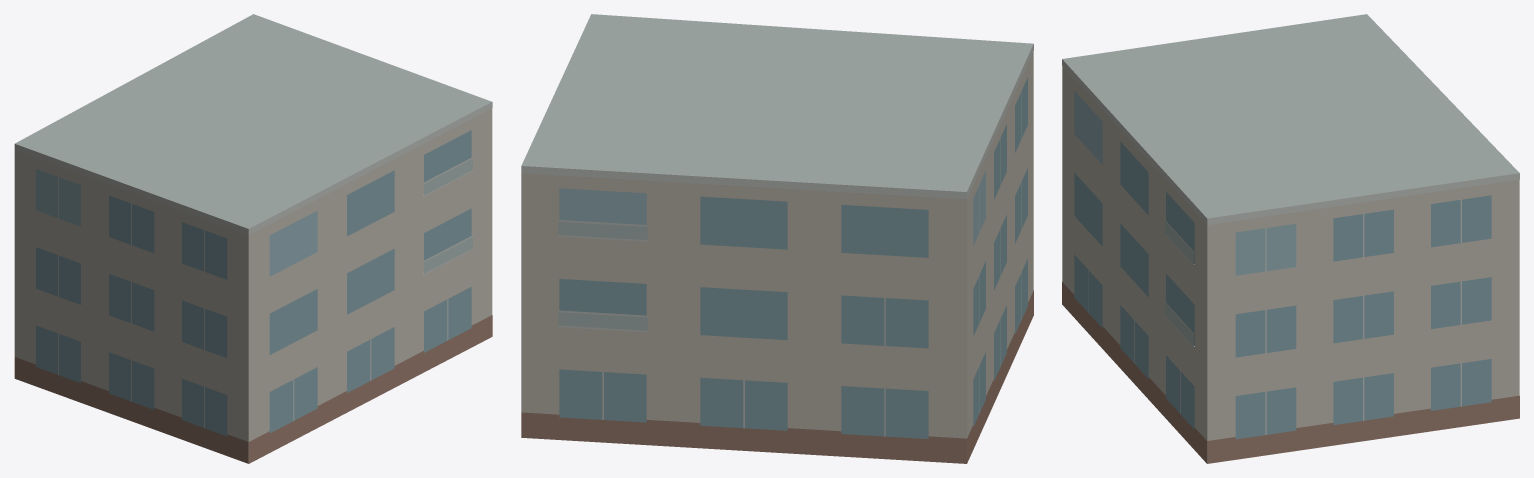
Rendered from survey-upis-32931818.glb.
The picture shows the model from 3 angles, left to right: view 1: azimuth 30°, elevation 25°; view 2: azimuth 150°, elevation 25°; view 3: azimuth 270°, elevation 25°; orthographic projection. The views are drawn at different scales.
Visible parts, largest first — view 1: survey-upis-32931818.tmp; view 2: survey-upis-32931818.tmp; view 3: survey-upis-32931818.tmp.
Boxes of the visible parts, left/top/right/bottom form: survey-upis-32931818.tmp: left=14, top=14, right=492, bottom=463; survey-upis-32931818.tmp: left=521, top=14, right=1033, bottom=463; survey-upis-32931818.tmp: left=1062, top=14, right=1519, bottom=463.
Bounding box in the file's own units: 16.37 × 9.15 × 15.48.
